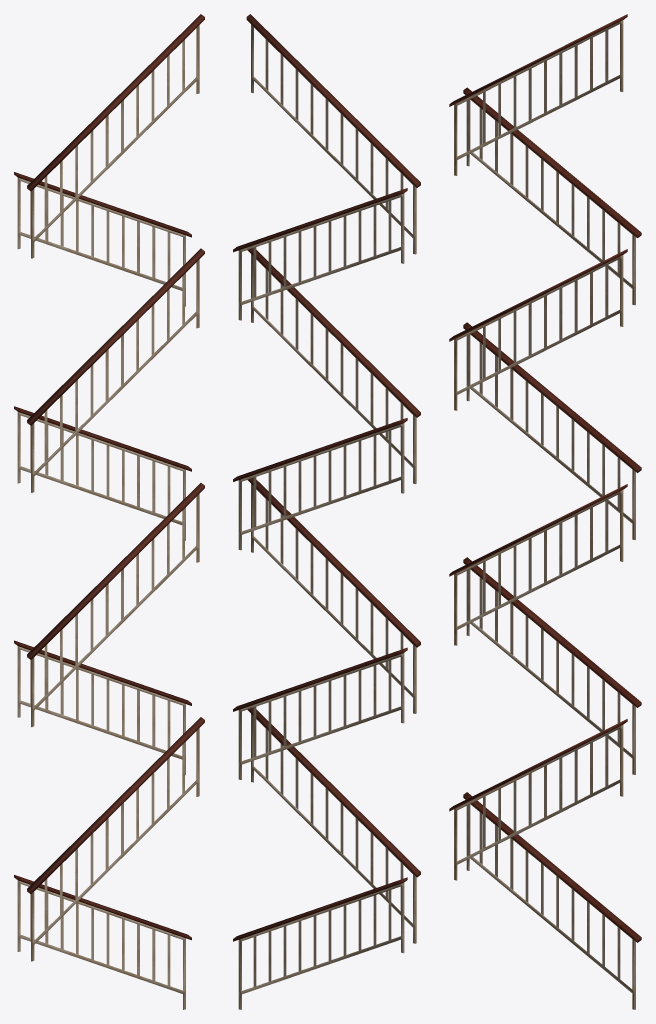
Rendered from stairs.fbx.
3 views of the same model, side by side, from view 1: azimuth 30°, elevation 25°; view 2: azimuth 150°, elevation 25°; view 3: azimuth 330°, elevation 25° (orthographic). The views are drawn at different scales.
Visible parts, largest first — view 1: handrailsLeft, handrailsRight; view 2: handrailsLeft, handrailsRight; view 3: handrailsRight, handrailsLeft.
Part boxes in pixels (<box>): handrailsLeft: <box>27,14,204,961</box>; handrailsRight: <box>14,172,191,1009</box>; handrailsLeft: <box>246,14,420,943</box>; handrailsRight: <box>233,188,407,1009</box>; handrailsRight: <box>463,87,641,1009</box>; handrailsLeft: <box>449,14,627,880</box>.
Bounding box in the file's own units: 199 × 1091 × 34.22.
Materials: 2 (2 with a texture image).
